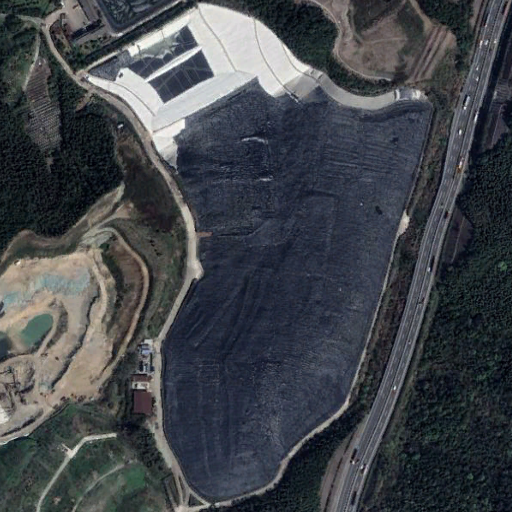lf: (84, 7, 430, 509)
